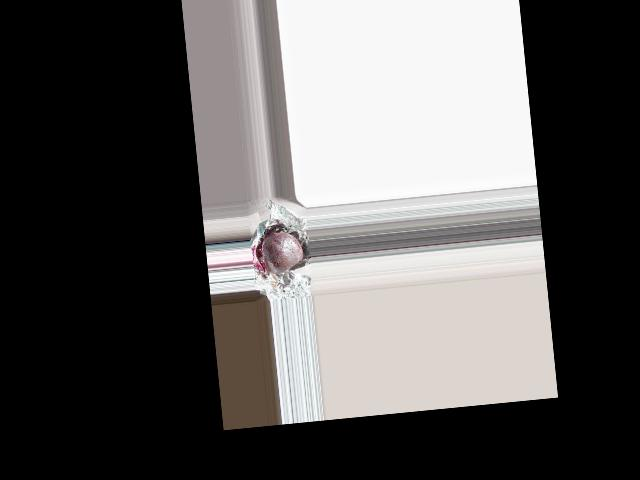beet: (261, 229, 304, 275)
